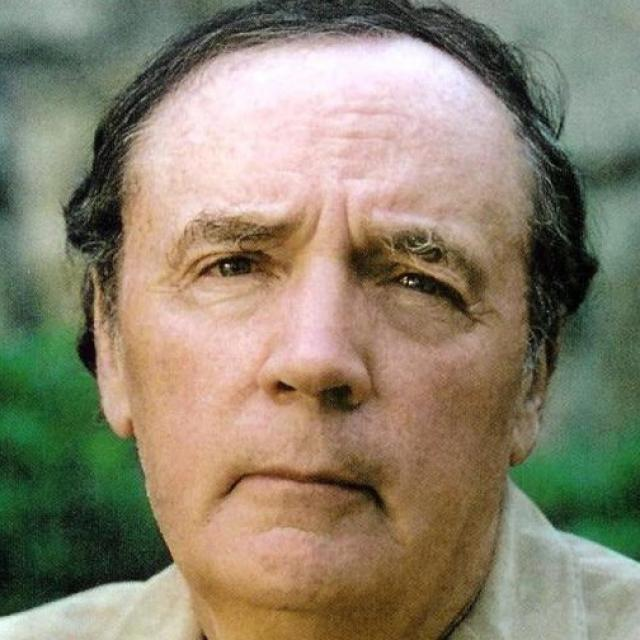Depress: (121, 41, 529, 613)
